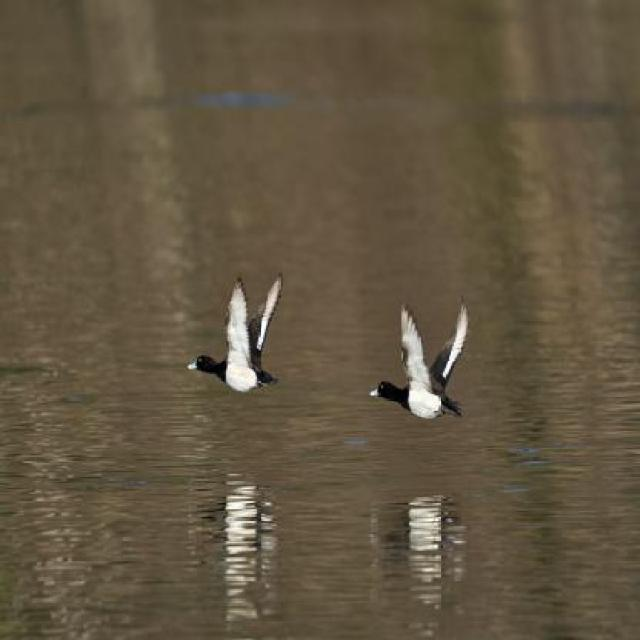bird: (370, 297, 470, 418), (189, 271, 283, 392)
